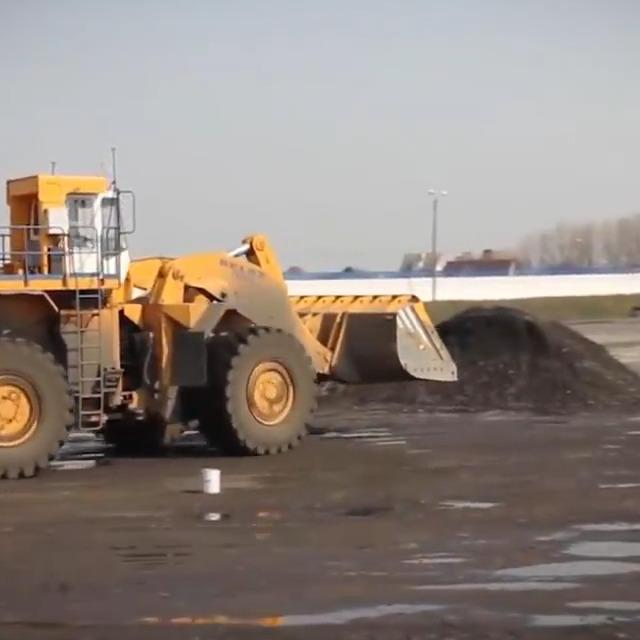wheel loader: (0, 164, 459, 483)
